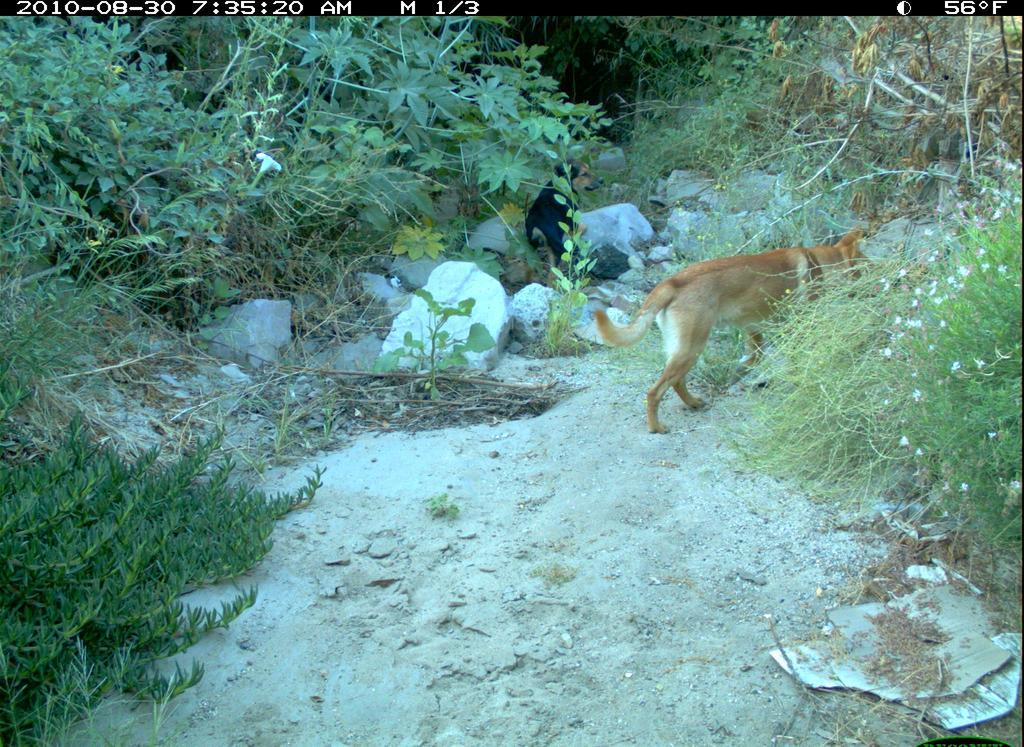dog: (589, 223, 889, 441), (523, 158, 610, 294)
